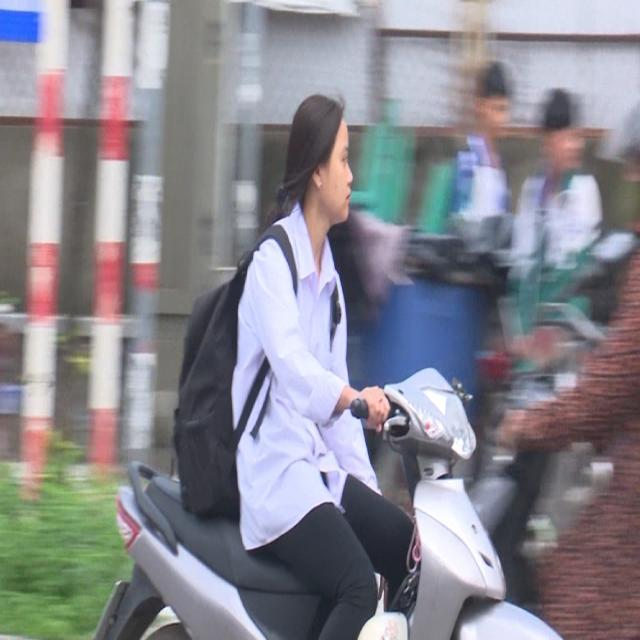no_helmet: (282, 80, 359, 239)
